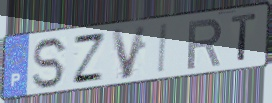I: (156, 21, 170, 76)
R: (186, 17, 225, 72)
S: (31, 35, 70, 91)
T: (230, 12, 259, 64)
V: (109, 23, 149, 81)
Z: (70, 32, 108, 85)
